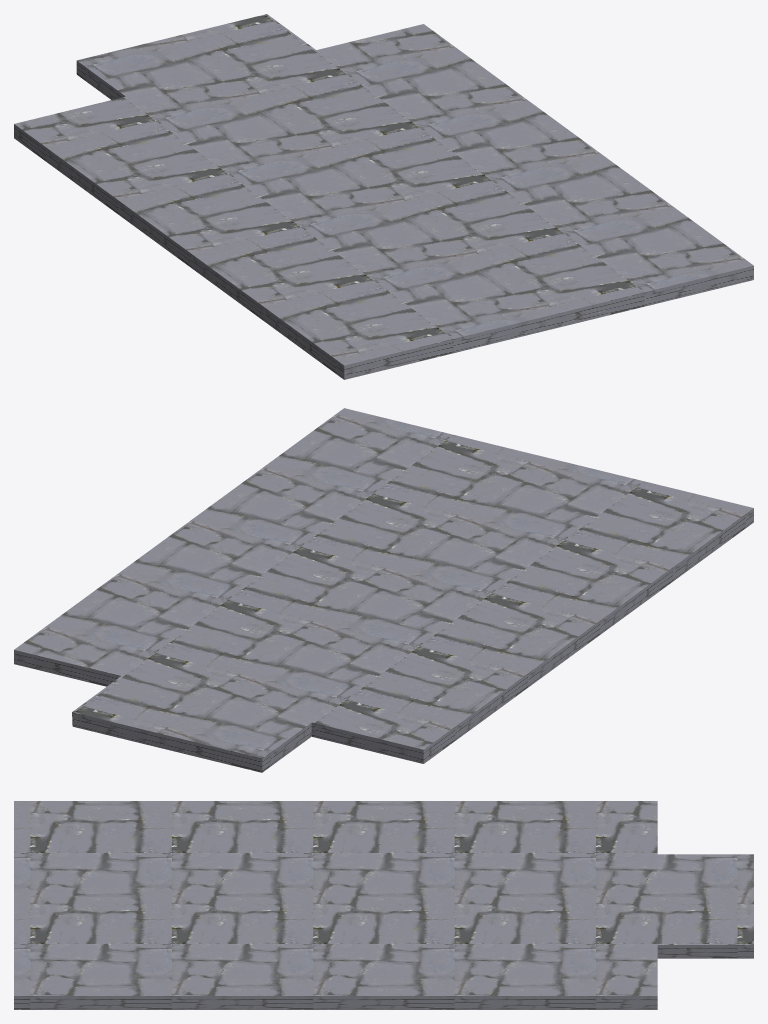
Rendered from FloorMithraeum_MoreTiled.FBX.
3 renders of one model, top to bottom at view 1: azimuth 30°, elevation 25°; view 2: azimuth 150°, elevation 25°; view 3: azimuth 270°, elevation 25°, orthographic. The views are drawn at different scales.
Visible parts, largest first — view 1: FloorMithraeum; view 2: FloorMithraeum; view 3: FloorMithraeum.
Boxes of the visible parts, box(x1,y1,x2,y2) form: FloorMithraeum: box(14, 14, 753, 379); FloorMithraeum: box(14, 408, 753, 772); FloorMithraeum: box(14, 801, 753, 1009).
Bounding box in the file's own units: 14.63 × 0.489 × 23.47.
Materials: 1 (1 with a texture image).
